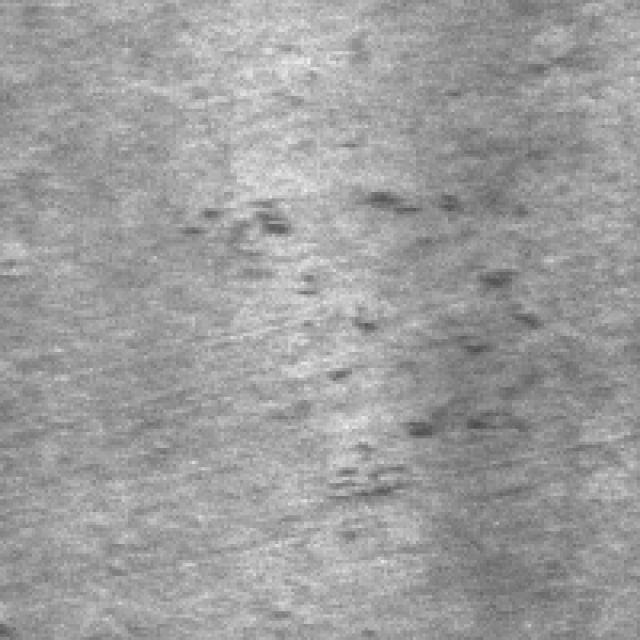rolled-in_scale: (240, 176, 557, 502)
